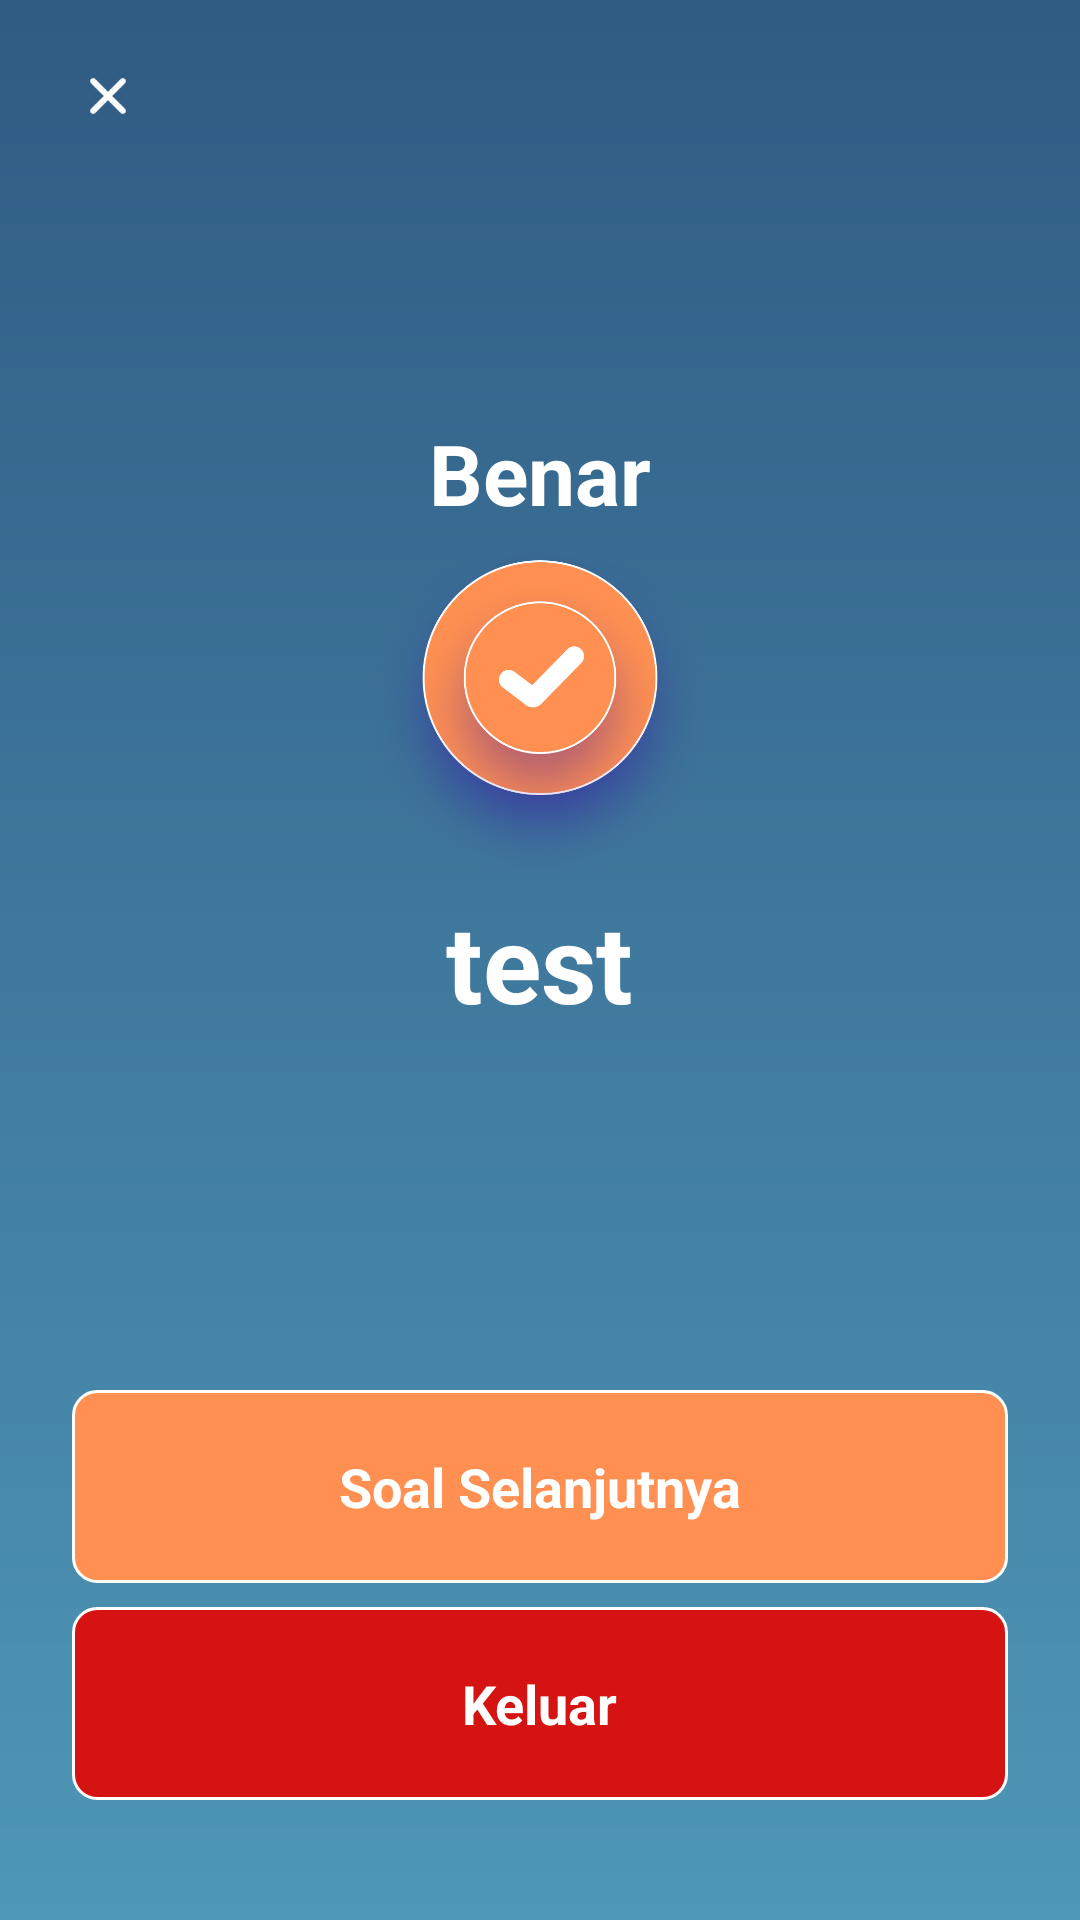

Where to tap for icons on this 1080x1920 app screen, as (x=x, y=y):
close: (x=108, y=96)
